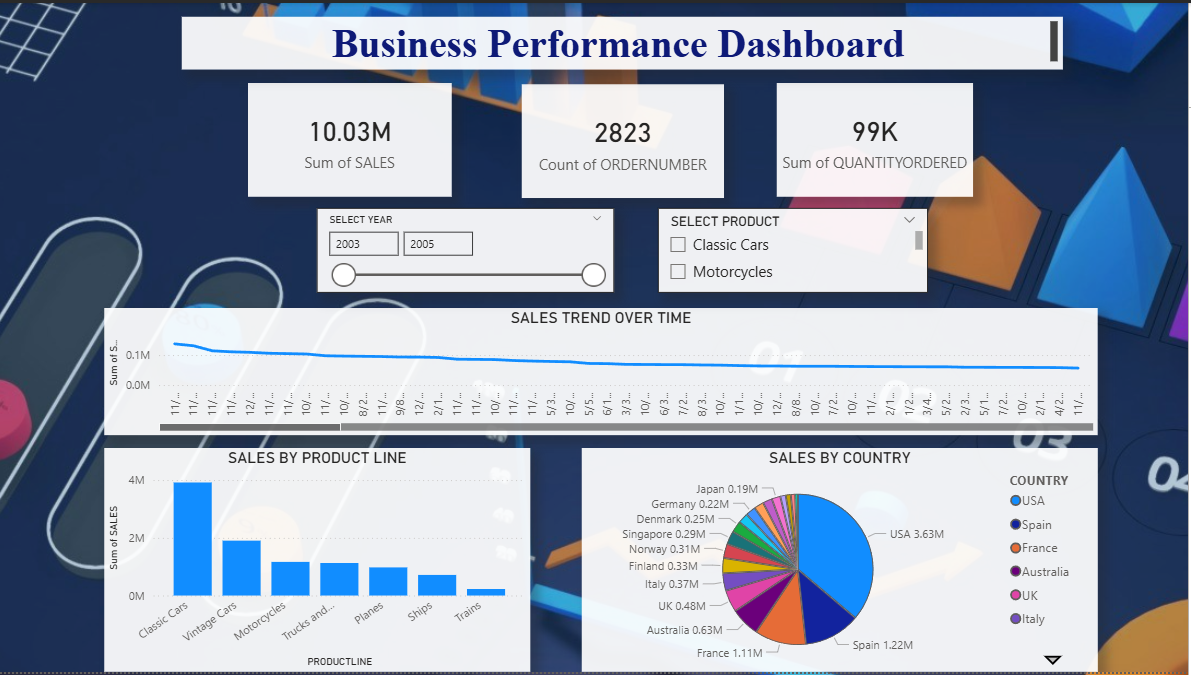

The dashboard page shown, as its layout file describes it:
{"tool":"powerbi","page":{"name":"Page 1","canvas":[1280,720],"ordinal":0},"visuals":[{"type":"card","fields":{"Values":["Sum(sales_data csv.SALES)"]},"box":[269,86.1,219.2,122.4],"z":0},{"type":"card","fields":{"Values":["CountNonNull(sales_data csv.ORDERNUMBER)"]},"box":[563.5,87.4,217.9,122.4],"z":1000},{"type":"card","fields":{"Values":["Sum(sales_data csv.QUANTITYORDERED)"]},"box":[837.4,86.2,211.4,122.5],"z":2000},{"type":"lineChart","title":"SALES TREND OVER TIME","fields":{"Category":["sales_data csv.ORDERDATE"],"Y":["Sum(sales_data csv.SALES)"]},"box":[114.3,328.1,1069.1,137.2],"z":3000},{"type":"clusteredColumnChart","title":"SALES BY PRODUCT LINE","fields":{"Y":["Sum(sales_data csv.SALES)"],"Category":["sales_data csv.PRODUCTLINE"]},"box":[114.3,478.8,458.6,240.7],"z":4000},{"type":"pieChart","title":"SALES BY COUNTRY","fields":{"Category":["sales_data csv.COUNTRY"],"Y":["Sum(sales_data csv.SALES)"]},"box":[628,478.8,555.4,240.7],"z":5000},{"type":"textbox","box":[197.9,14.8,947.8,56.5],"z":6000},{"type":"slicer","title":"SELECT YEAR","fields":{"Values":["sales_data csv.YEAR_ID"]},"box":[342.9,220.6,320.1,91.4],"z":7000},{"type":"slicer","title":"SELECT PRODUCT","fields":{"Values":["sales_data csv.PRODUCTLINE"]},"box":[710.1,220.6,290.5,91.4],"z":8000}]}

Visuals, with their boxes in screenshot pixels (x1, y1, x2, y2), scaled from the page's 1280x720 canvas onto the 1191x675 screenshot:
card - Sum(sales_data csv.SALES): <bbox>250, 81, 454, 195</bbox>
card - CountNonNull(sales_data csv.ORDERNUMBER): <bbox>524, 82, 727, 197</bbox>
card - Sum(sales_data csv.QUANTITYORDERED): <bbox>779, 81, 976, 196</bbox>
"SALES TREND OVER TIME" lineChart: <bbox>106, 308, 1101, 436</bbox>
"SALES BY PRODUCT LINE" clusteredColumnChart: <bbox>106, 449, 533, 674</bbox>
"SALES BY COUNTRY" pieChart: <bbox>584, 449, 1101, 674</bbox>
textbox: <bbox>184, 14, 1066, 67</bbox>
"SELECT YEAR" slicer: <bbox>319, 207, 617, 292</bbox>
"SELECT PRODUCT" slicer: <bbox>661, 207, 931, 292</bbox>
